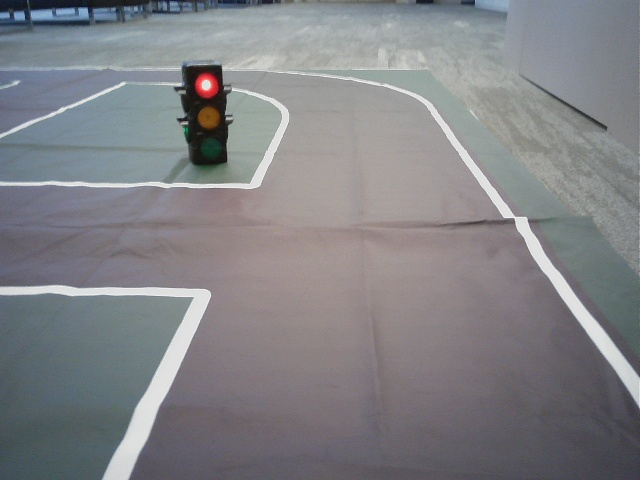red: (191, 68, 223, 161)
